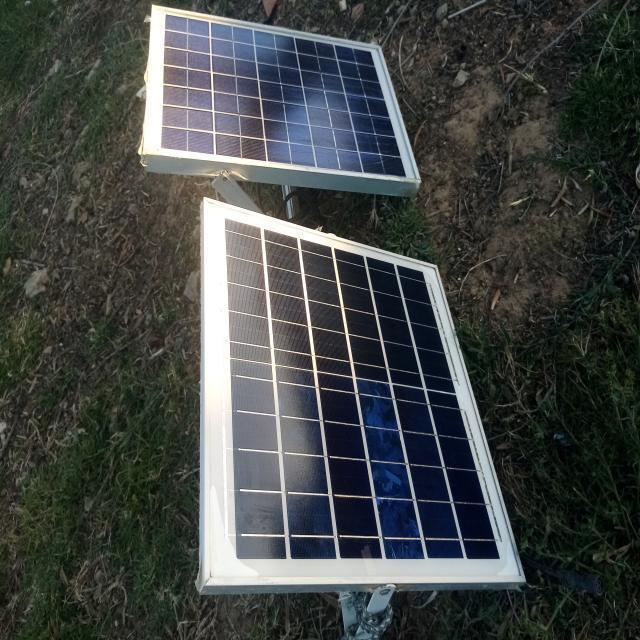Normal Solar Panel: (205, 203, 523, 585), (145, 4, 417, 178)
